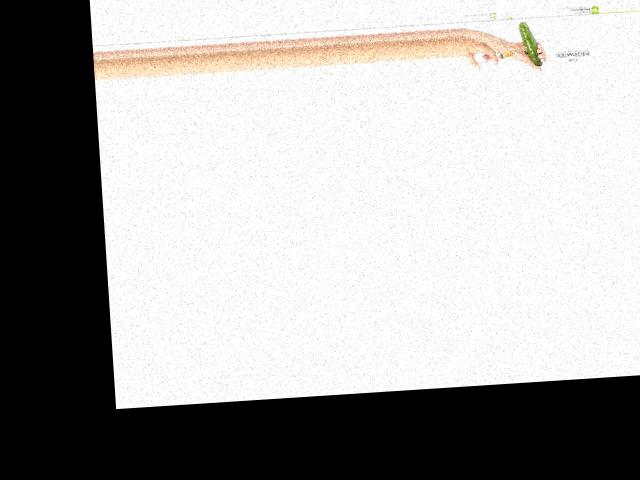cucumber: (517, 20, 541, 67)
